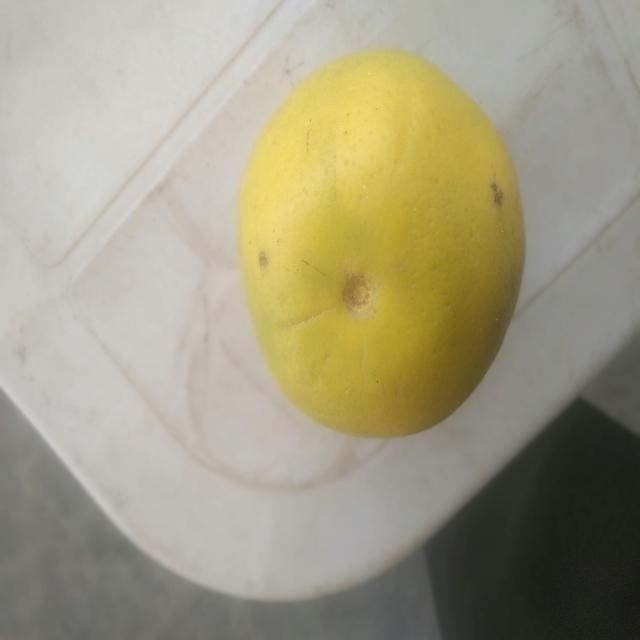agrume: (234, 48, 530, 451)
